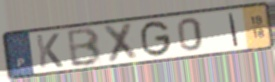0: (175, 16, 207, 54)
B: (66, 26, 104, 69)
G: (140, 19, 174, 59)
I: (227, 12, 241, 48)
K: (33, 32, 65, 70)
X: (101, 21, 140, 65)
